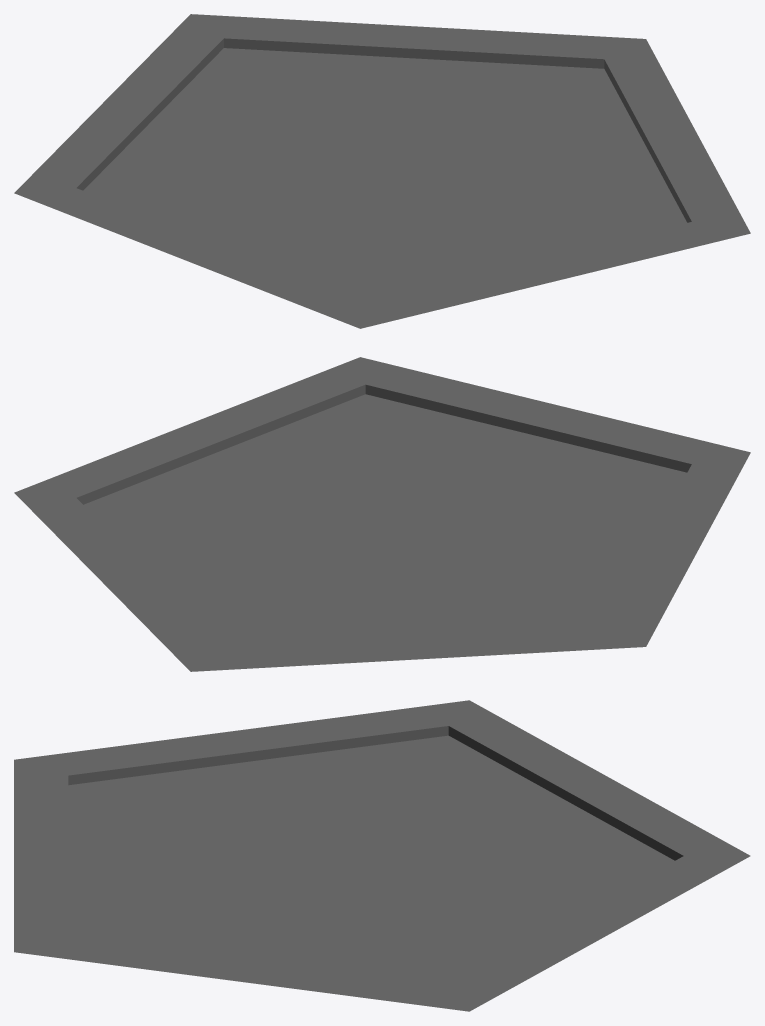
The model's file is talrik.fbx.
3 renders of one model, top to bottom at view 1: azimuth 30°, elevation 25°; view 2: azimuth 150°, elevation 25°; view 3: azimuth 270°, elevation 25°, orthographic.
Visible parts, largest first — view 1: Cylinder; view 2: Cylinder; view 3: Cylinder.
Boxes of the visible parts, box(x1,y1,x2,y2) form: Cylinder: box(14, 14, 750, 328); Cylinder: box(14, 357, 750, 671); Cylinder: box(14, 700, 750, 1011).
Size of the model in its own units: 28.36 by 1 by 28.36.
Materials: 1 (1 with a texture image).
